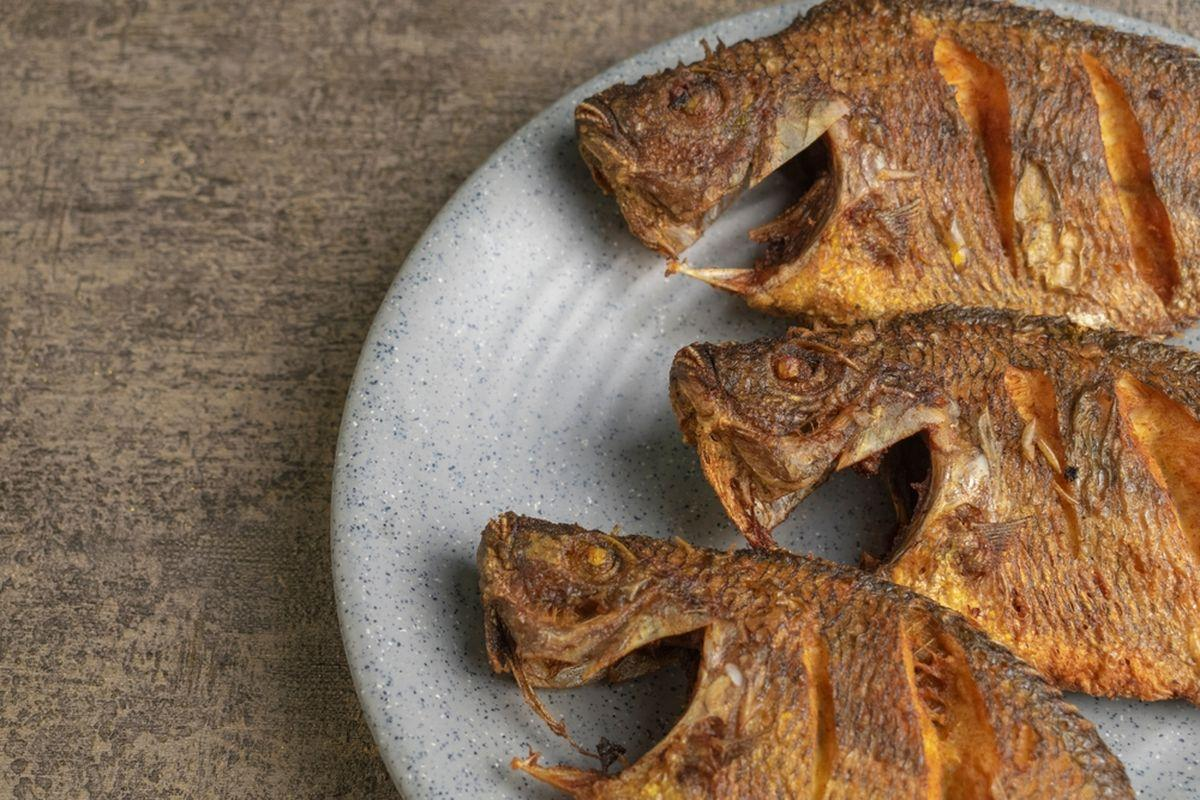daging: (824, 41, 1179, 303), (932, 352, 1179, 605), (692, 617, 867, 795)
